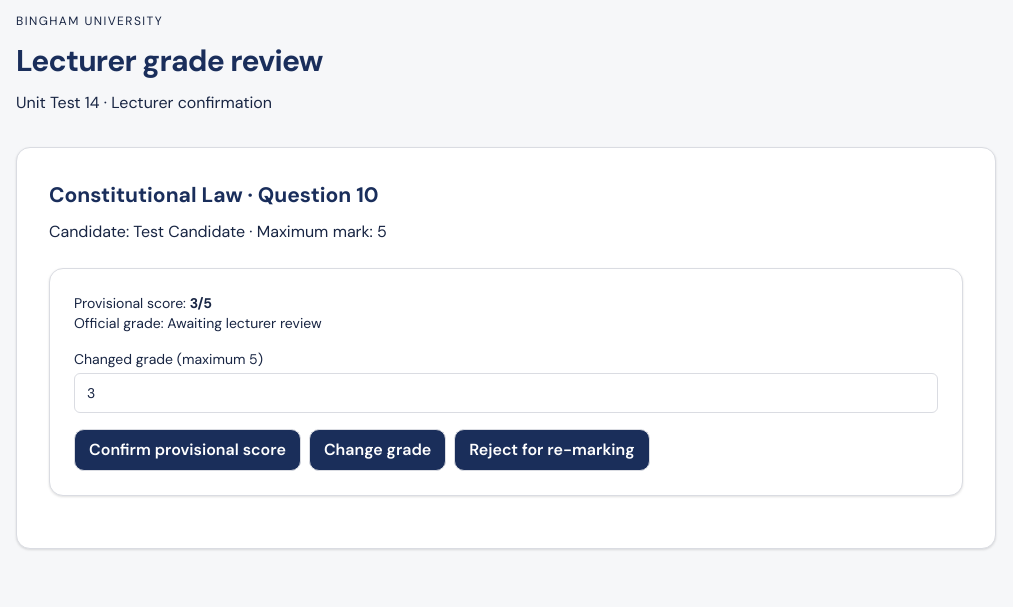
Scenario: Unit Test 14 — H10: lecturer changes, rejects, and caps reviewed grades › keeps the provisional score when a lecturer changes the official grade and enforces the maximum
Replace the text in the number field labelled "Changed grade (maximum 5)" with "6" at (506, 392), box [74,372,938,412]
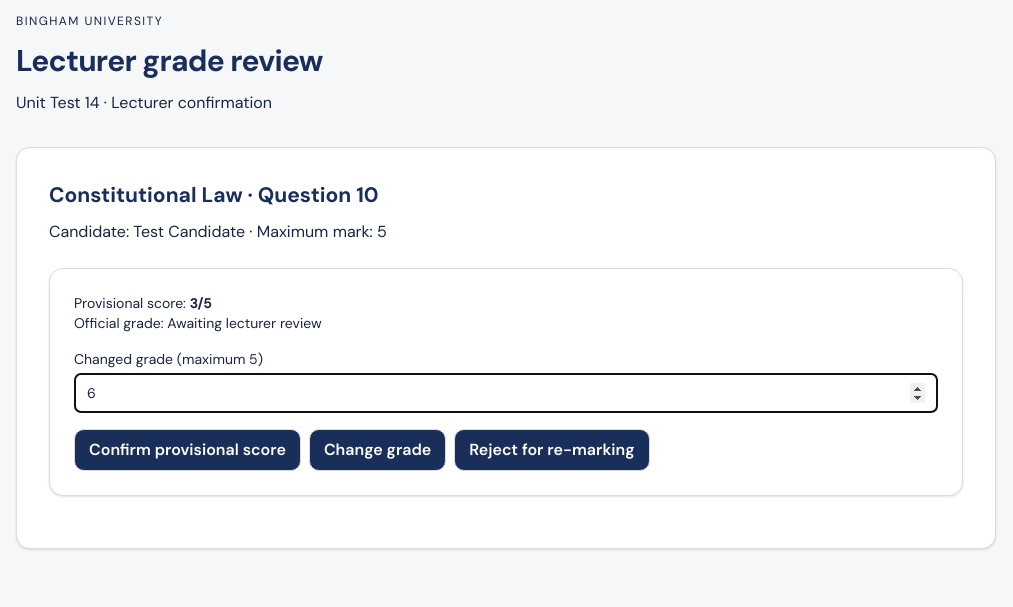
Click the button "Change grade".
click(378, 450)  # box [309,428,446,470]
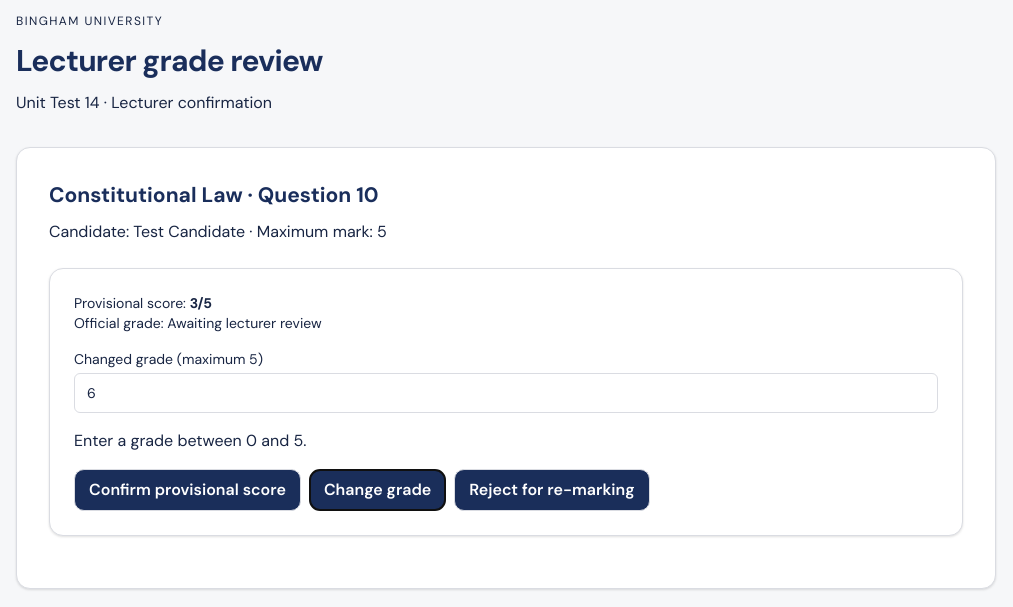
Expected: the text with test id "official-grade" reads "Official grade: Awaiting lecturer review", [74,314,322,332]
Now the message reads "Enter a grade between 0 and 5.", box [74,430,306,450]
Replace the text in the number field labelled "Changed grade (maximum 5)" with "2" at (506, 392), box [74,372,938,412]
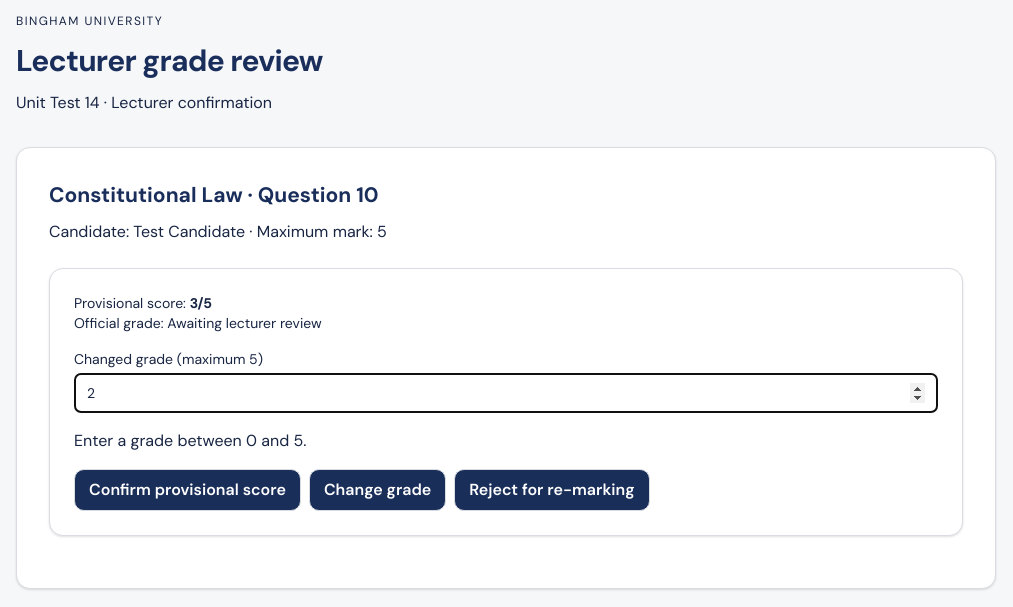
Click the button "Change grade".
click(378, 490)  # box [309,468,446,510]
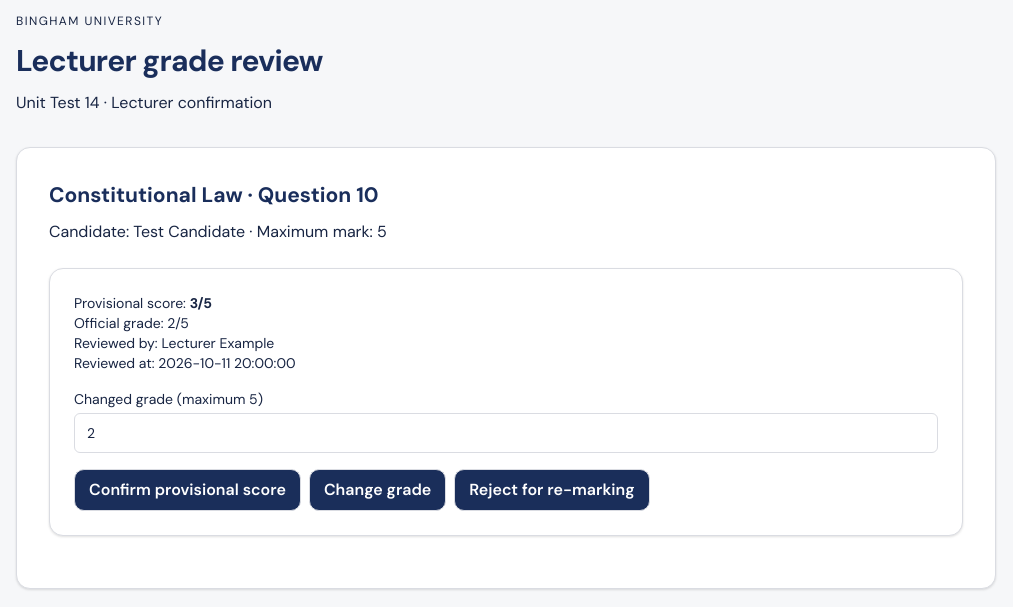
Expected: the text with test id "provisional-score" reads "3/5", [190,294,212,312]
Now the text with test id "official-grade" reads "Official grade: 2/5", box [74,314,189,332]
